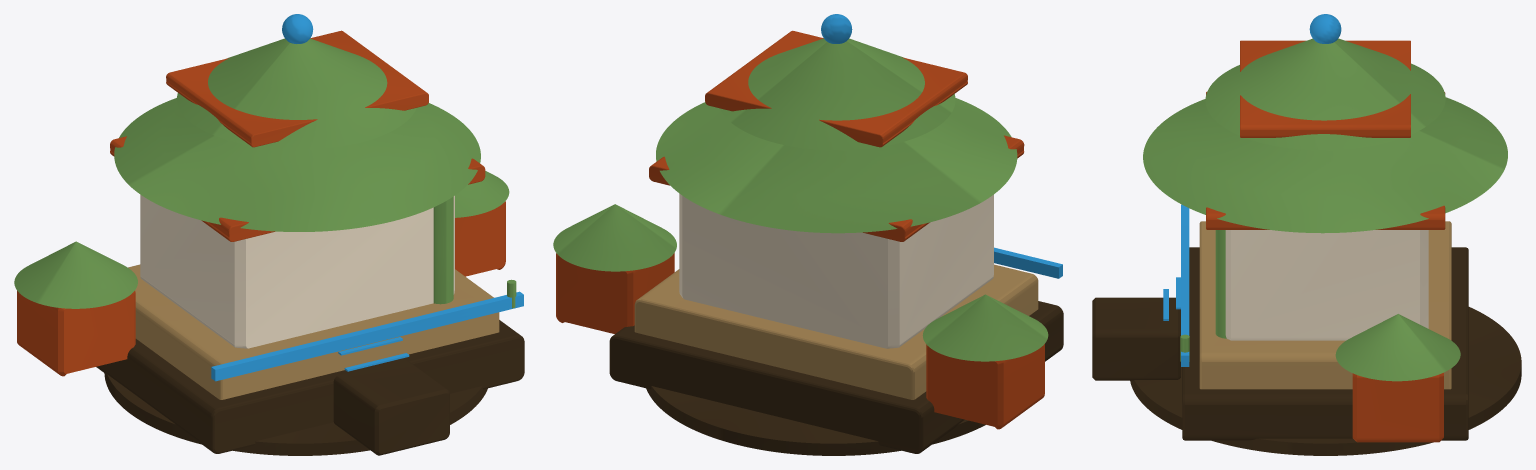
The model's file is 1184_唐图鉴_含元殿.glb.
3 renders of one model, left to right at view 1: azimuth 30°, elevation 25°; view 2: azimuth 150°, elevation 25°; view 3: azimuth 270°, elevation 25°, orthographic.
Parts seen in each view (by area): view 1: card_1184; view 2: card_1184; view 3: card_1184.
Part boxes in pixels (x1,y1,x2,y2): card_1184: (14,14,524,455); card_1184: (553,14,1063,455); card_1184: (1092,14,1521,455).
Size of the model in its own units: 1.4 by 1 by 1.08.
